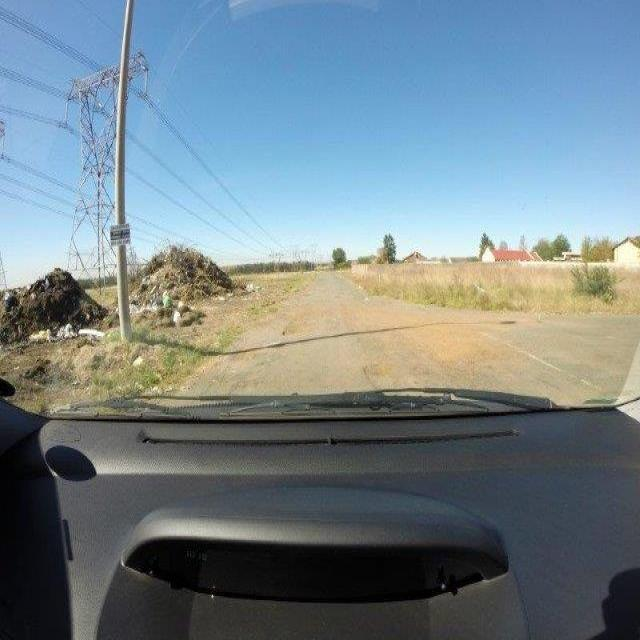lubang: (360, 339, 431, 385), (278, 309, 308, 340)
